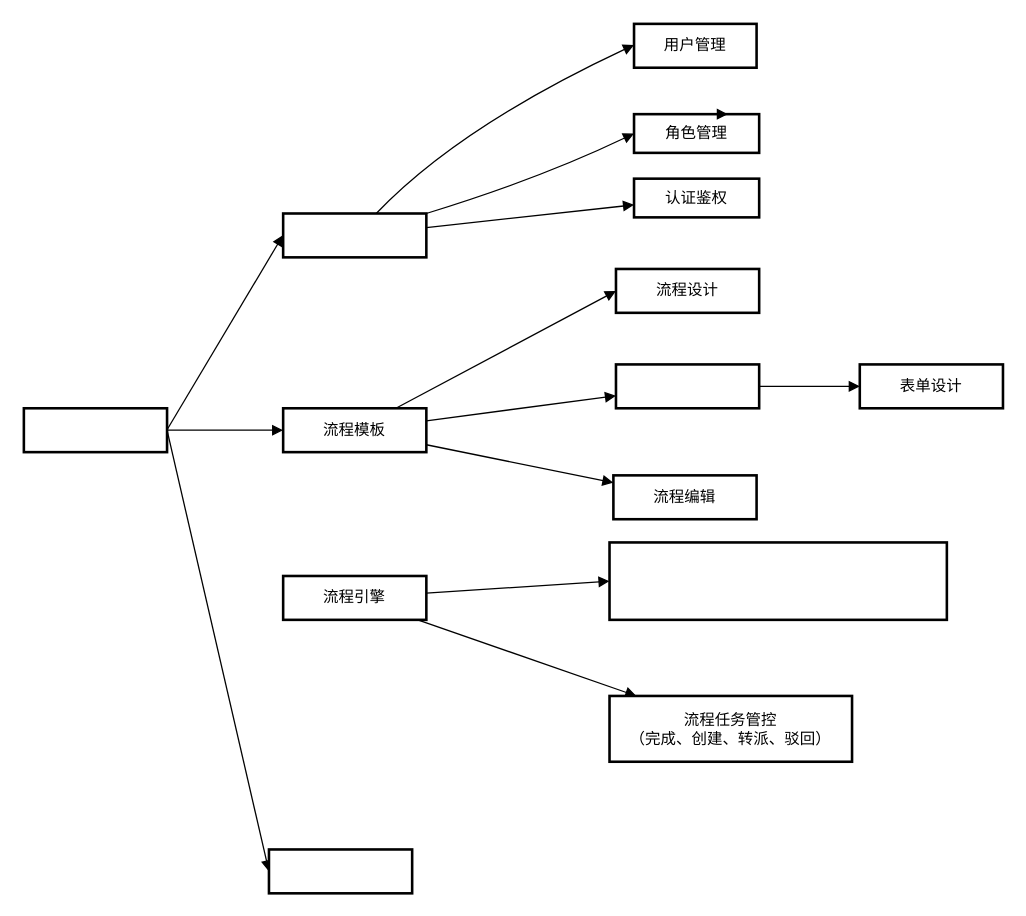
The diagram is 1026 pixels wide and 916 high, and some of its shapes have lost their labels. Here are the shapes that lost their labels. From the top down, the centre of each, then its label:
At point 354,235: "权限模块".
At point 687,385: "动作设计".
At point 95,429: "Domino".
At point 778,580: "流程实例管控 （发起、正常完成、中途拒绝、发起人撤销）".
